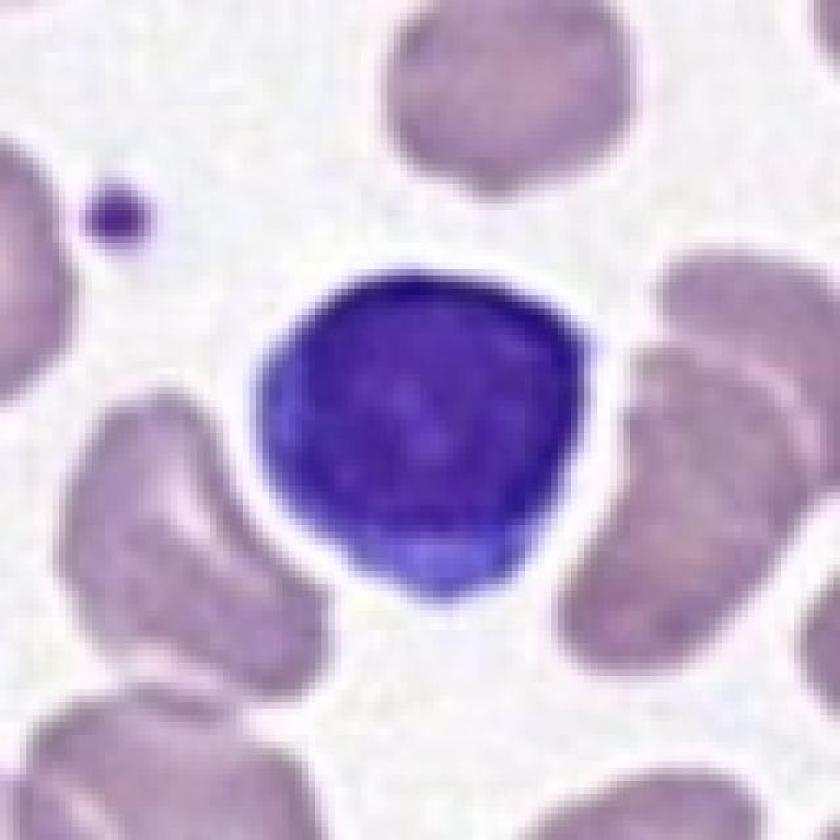lymphocyte: (245, 242, 607, 618)
